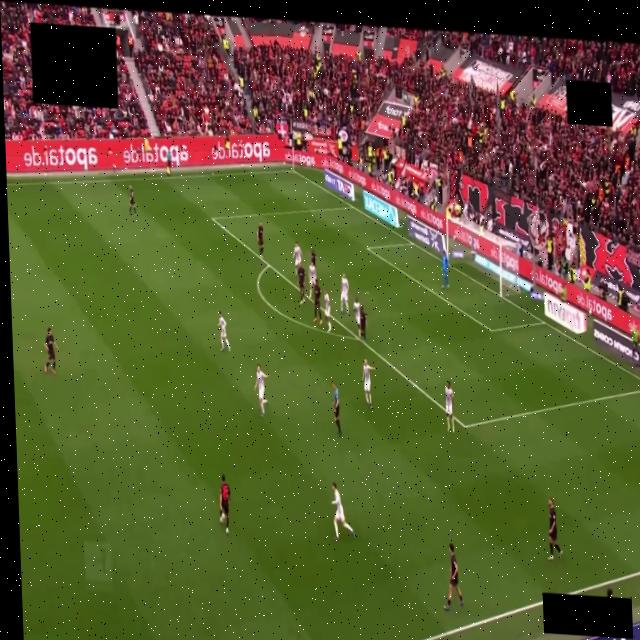player: (331, 482, 353, 540), (443, 544, 462, 611), (547, 498, 561, 560), (44, 327, 58, 374), (255, 365, 268, 415), (219, 475, 230, 533), (363, 359, 374, 408), (444, 381, 453, 432), (218, 311, 229, 351), (313, 281, 321, 324), (296, 264, 304, 304), (340, 274, 348, 314), (308, 264, 317, 299), (441, 249, 448, 289), (352, 298, 360, 333), (359, 305, 366, 341), (293, 242, 301, 272), (324, 292, 330, 332), (128, 185, 136, 215), (257, 222, 263, 258), (310, 249, 316, 266)
referee: (332, 383, 340, 437)
